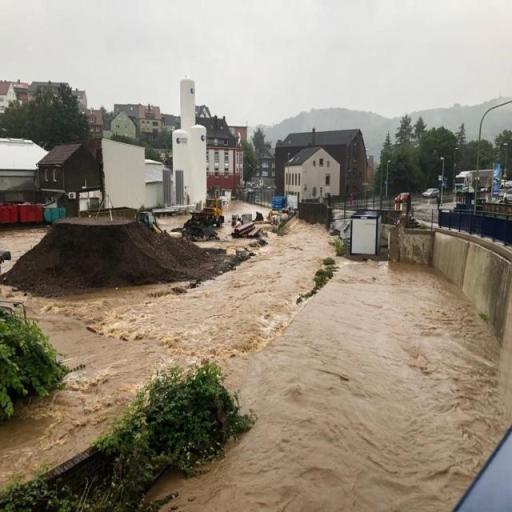flood: (0, 220, 334, 482), (176, 261, 508, 512), (196, 201, 270, 255), (0, 227, 46, 272), (159, 214, 191, 237)
house: (282, 140, 344, 213), (37, 142, 99, 200), (208, 114, 246, 182), (279, 131, 366, 152), (106, 108, 140, 138), (0, 79, 18, 114), (141, 104, 161, 134)
